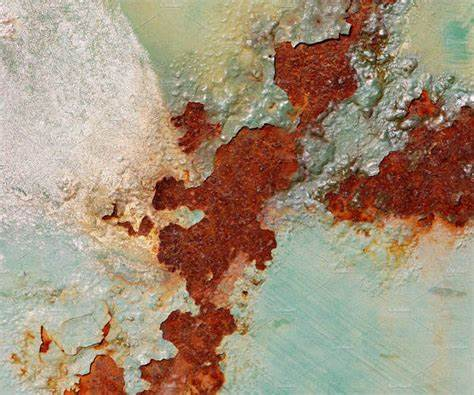rust: (148, 134, 291, 289), (392, 100, 474, 224), (268, 42, 361, 119), (156, 312, 229, 395)
